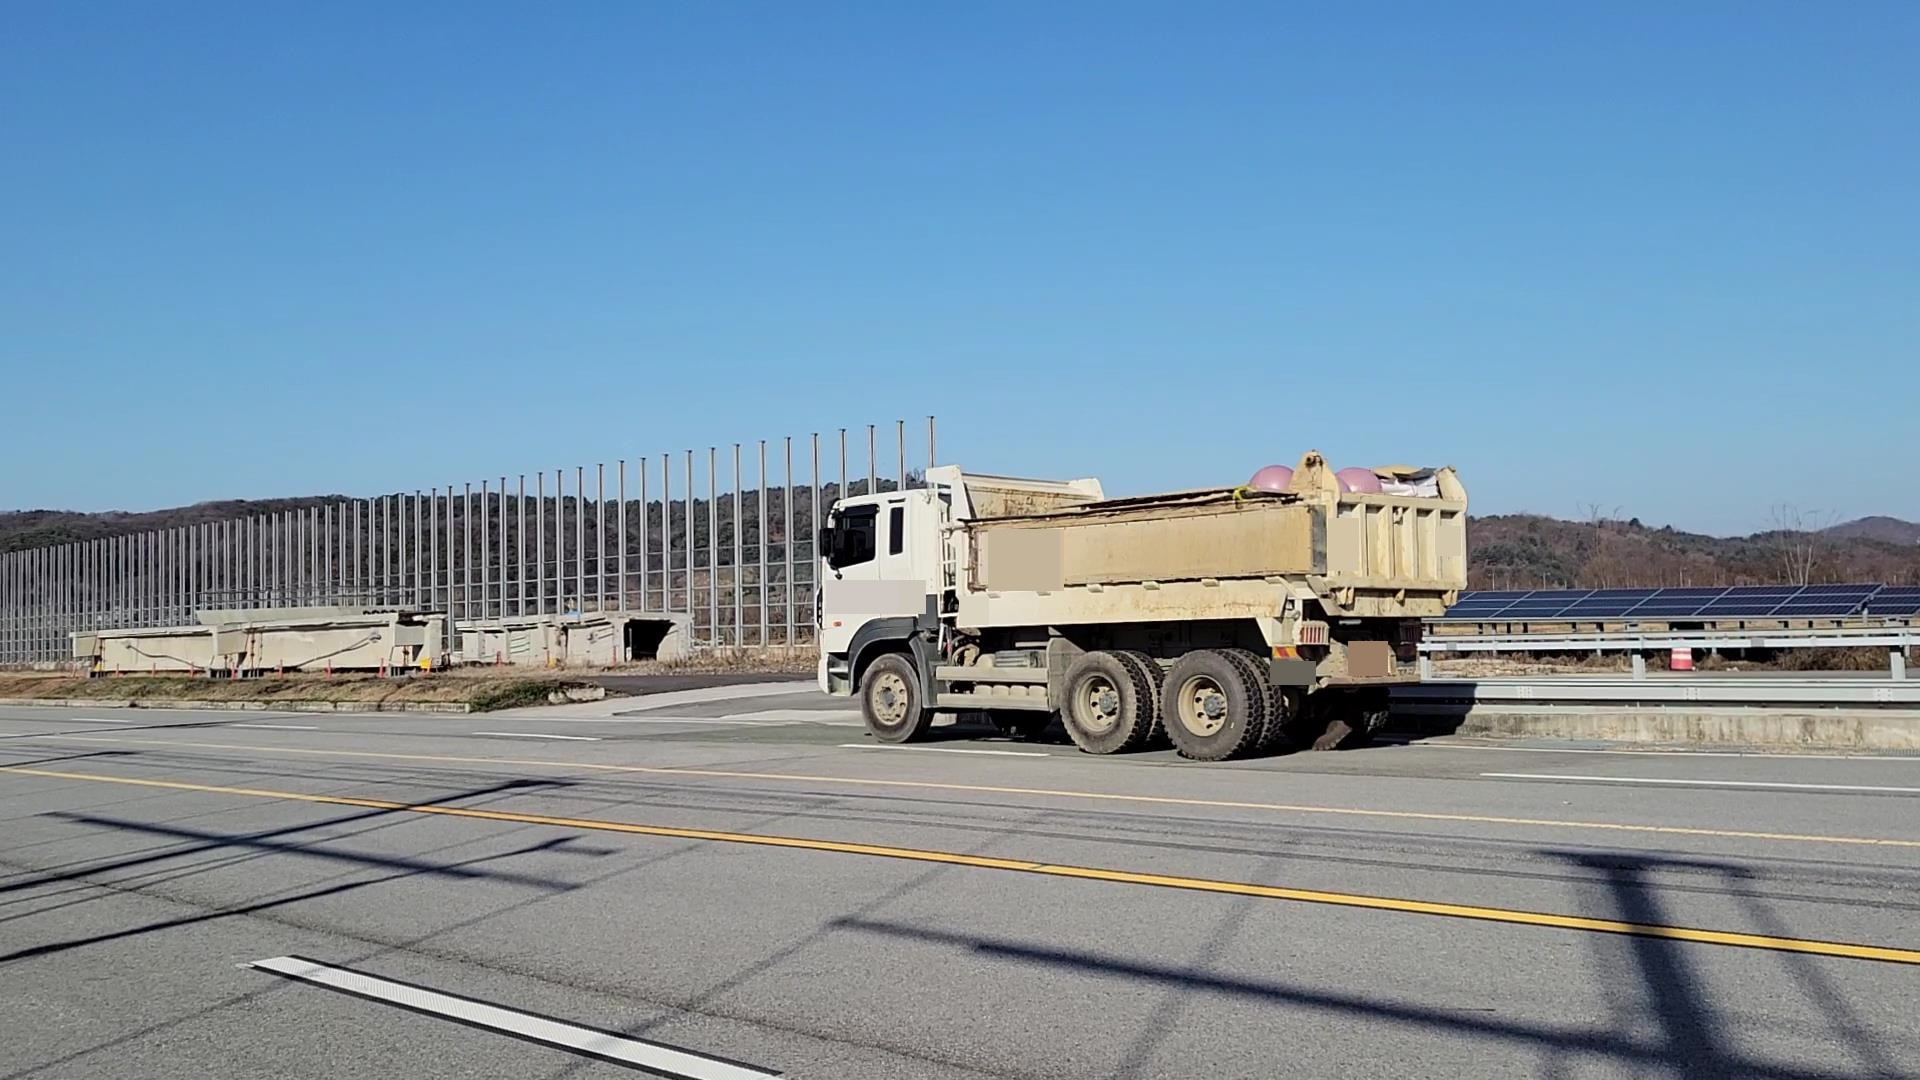불법차량: (812, 448, 1469, 761)
